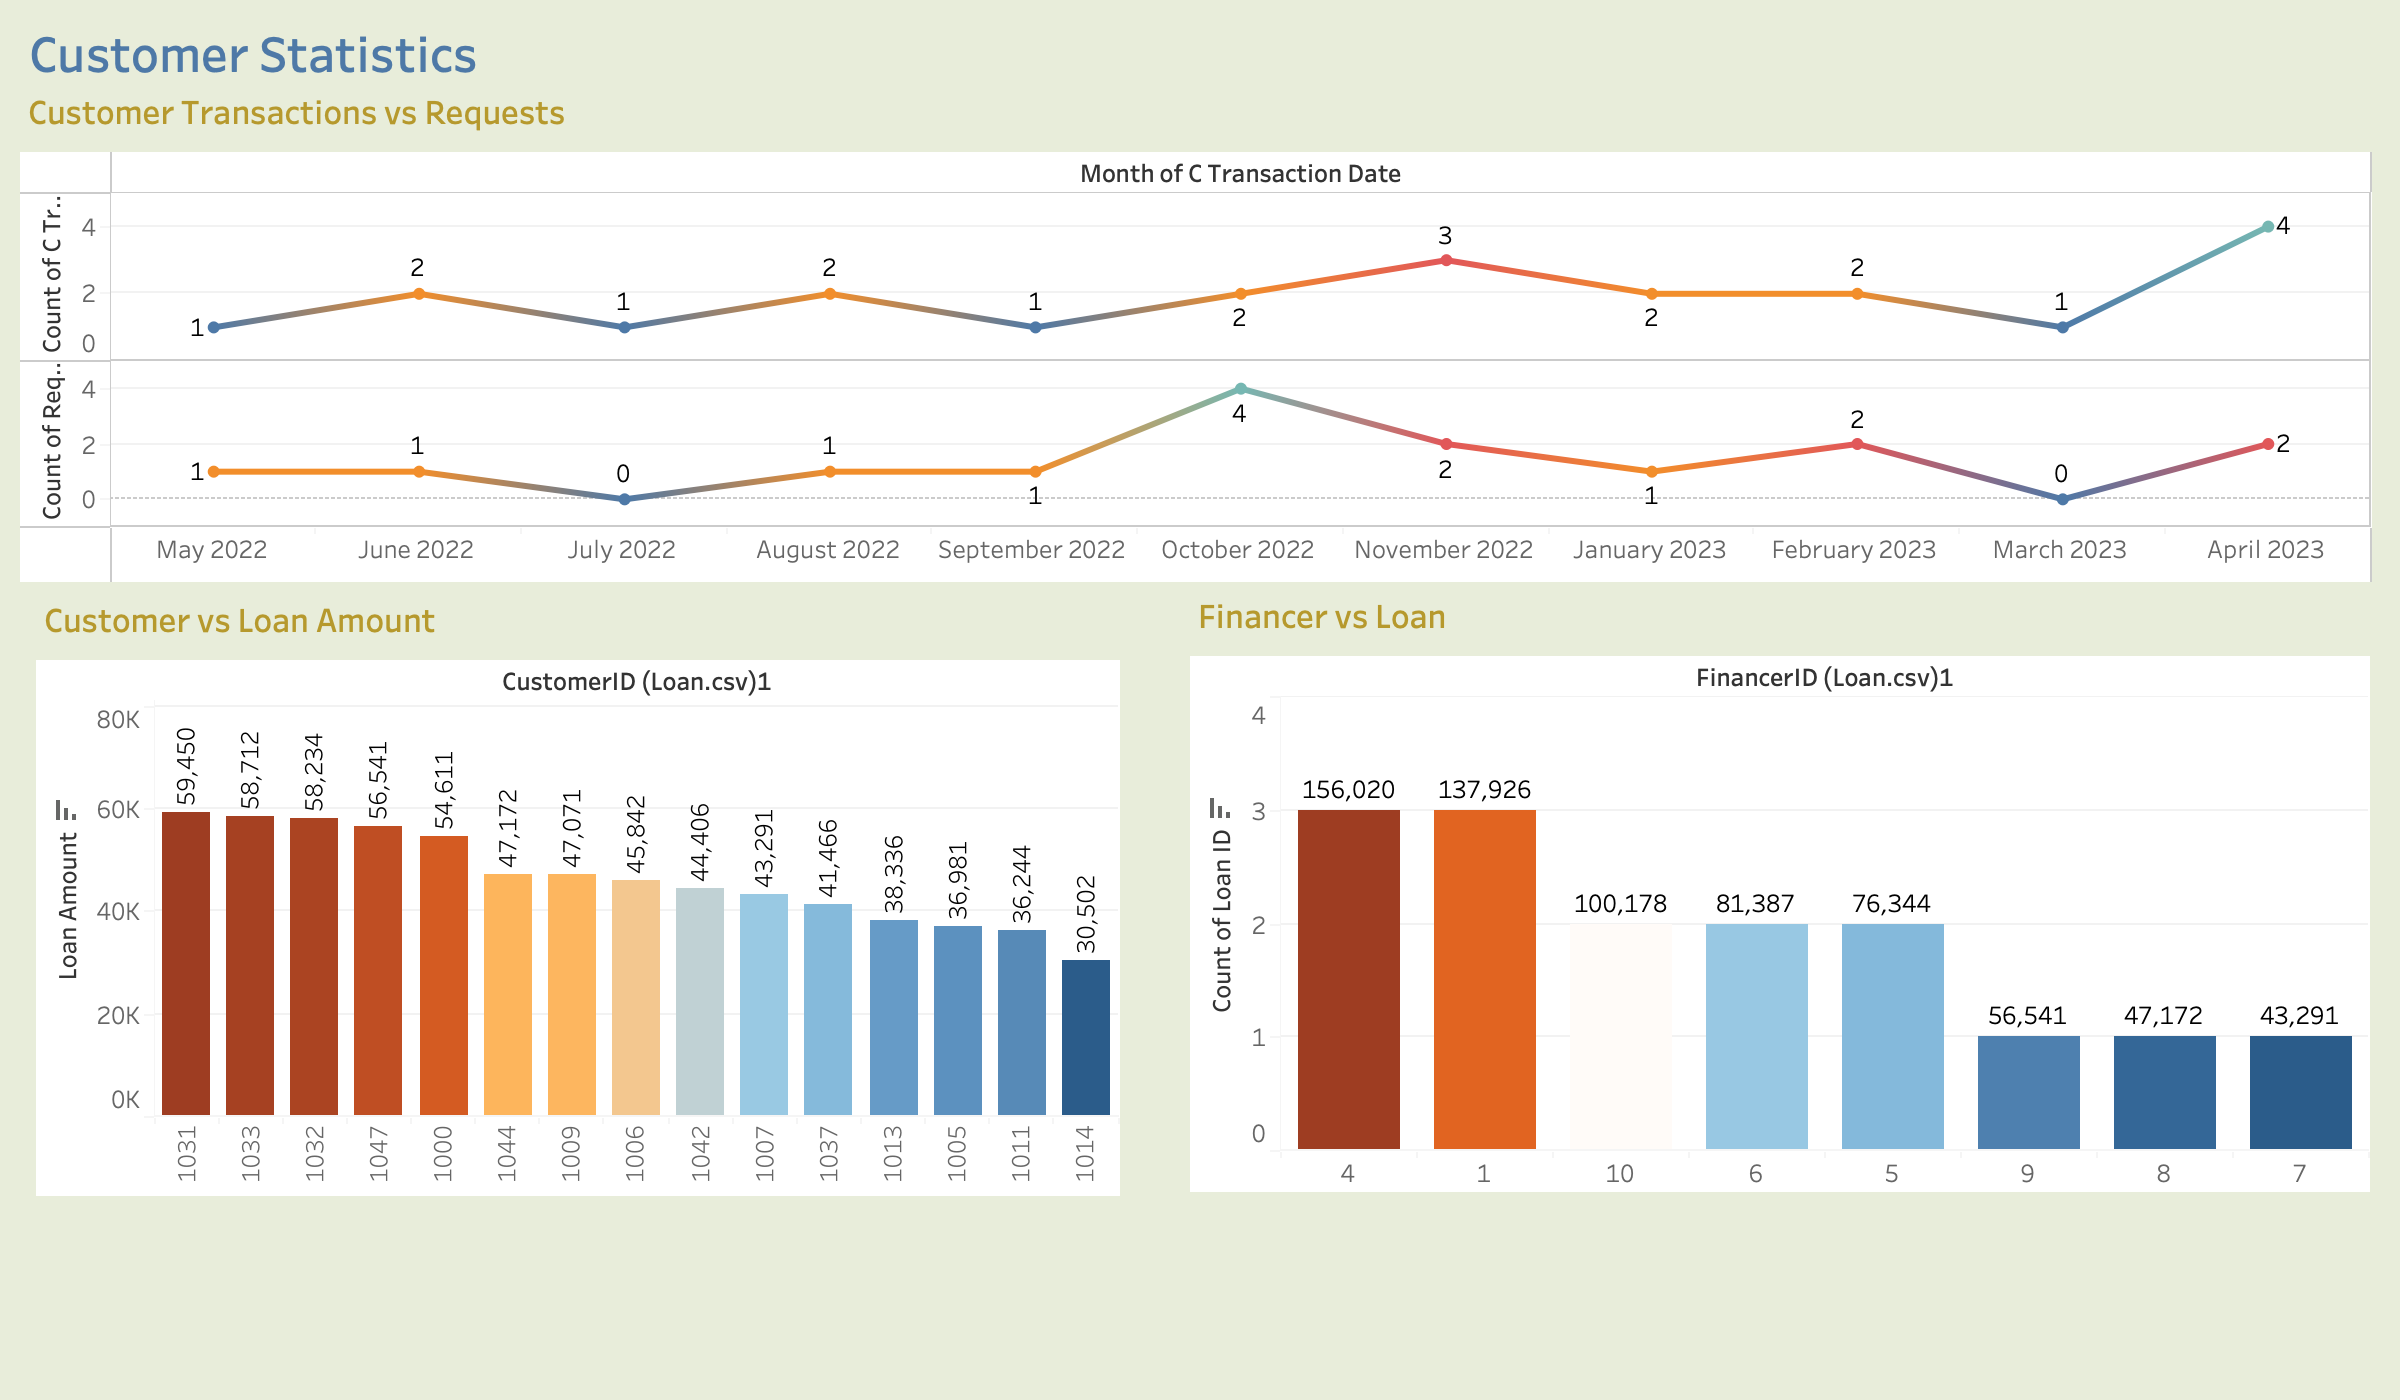

The page's visual inventory and layout, read from the dashboard file:
{"tool":"tableau","page":{"name":"Customer Dashboard","canvas":[1200,700],"ordinal":0},"visuals":[{"type":"title","box":[8,8,1184,36]},{"type":"worksheet","title":"Customer Transactions vs Requests","mark":"Automatic","rows":["CTransactionID","RequestID"],"cols":["CTransactionDate"],"box":[9.6,38.5,1176,252.9]},{"type":"worksheet","title":"Financer vs Loan","mark":"Automatic","rows":["LoanID"],"cols":["FinancerID (Loan.csv)"],"box":[595.2,291.4,589.2,304.5]},{"type":"worksheet","title":"Customer vs Loan Amount","mark":"Automatic","rows":["LoanAmount"],"cols":["CustomerID (Loan.csv)"],"box":[18,293.1,541.2,304.5]}]}

Visuals, with their boxes in screenshot pixels (x1, y1, x2, y2), scaled from the page's 1200x700 canvas onto the 2400x1400 screenshot:
title: locate(16, 16, 2384, 88)
"Customer Transactions vs Requests" worksheet: locate(19, 77, 2371, 583)
"Financer vs Loan" worksheet: locate(1190, 583, 2369, 1192)
"Customer vs Loan Amount" worksheet: locate(36, 586, 1118, 1195)
